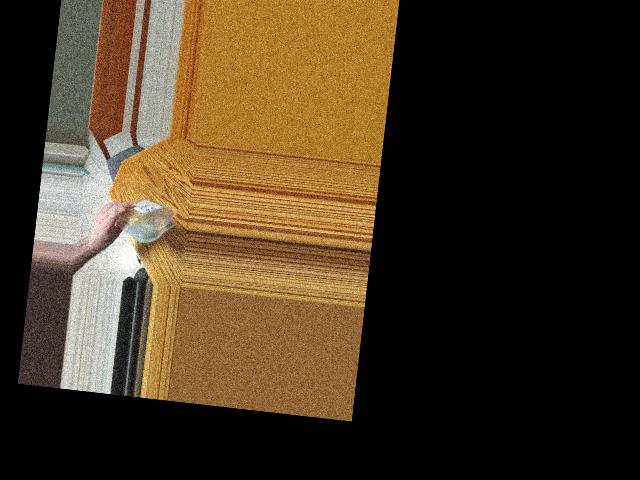cheese: (105, 196, 172, 239)
